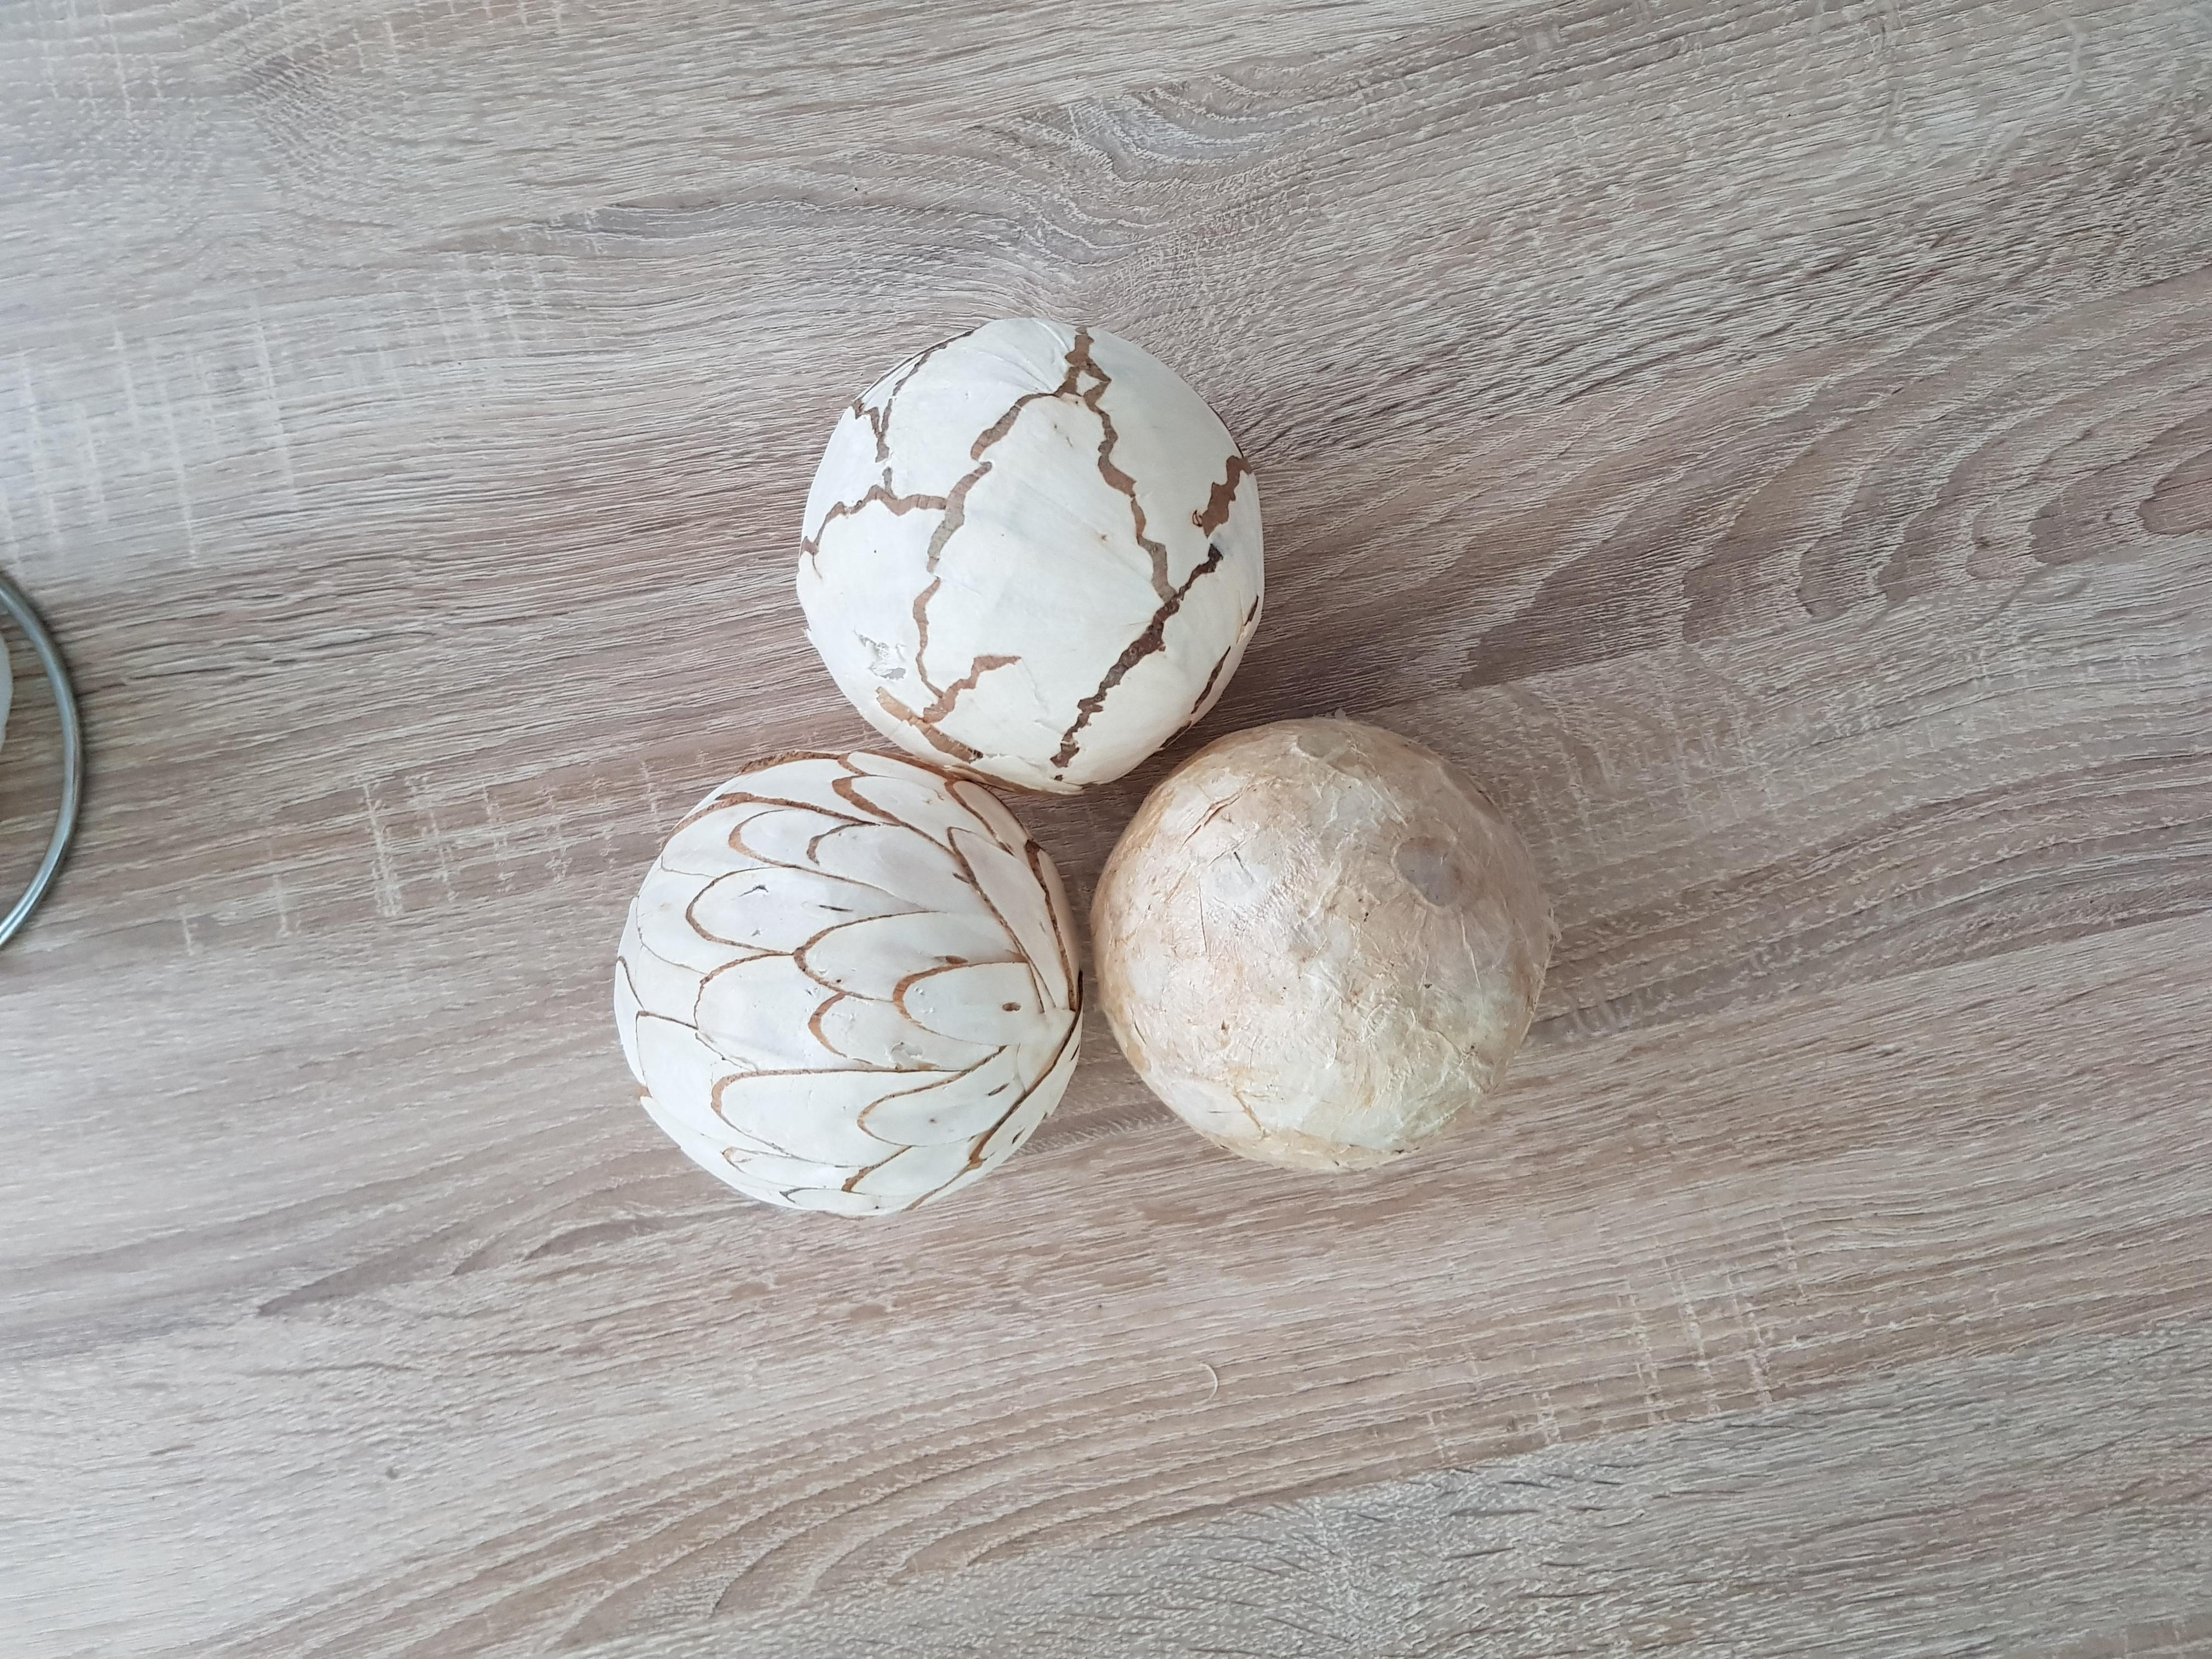Sphere: (786, 307, 1268, 798), (603, 744, 1092, 1218), (1097, 709, 1547, 1173)
